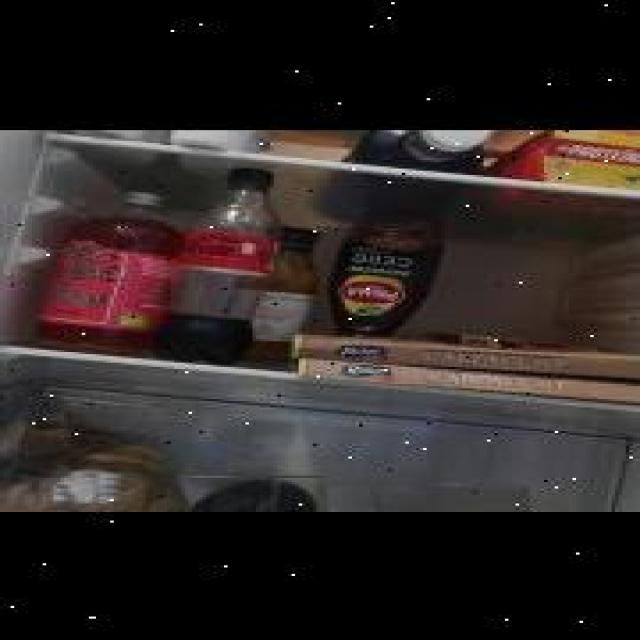avocado: (185, 476, 323, 512)
banana: (327, 484, 530, 512)
